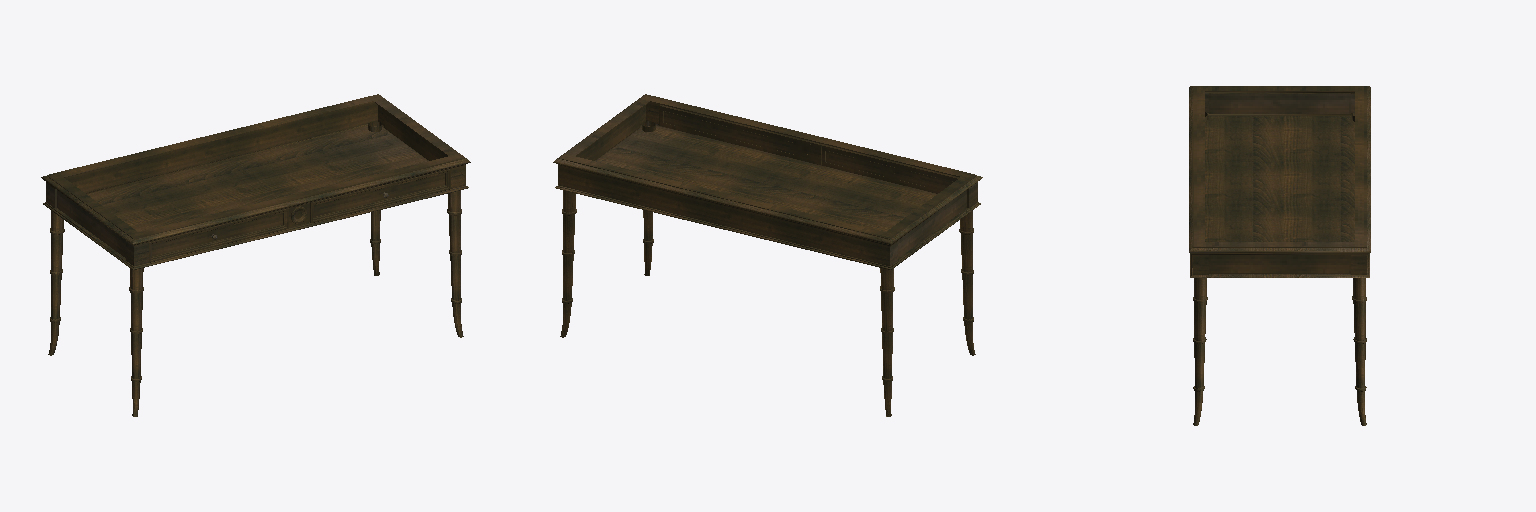
3 views of the same model, side by side, from view 1: azimuth 30°, elevation 25°; view 2: azimuth 150°, elevation 25°; view 3: azimuth 270°, elevation 25° (orthographic).
Parts seen in each view (by area): view 1: solid_002; view 2: solid_002; view 3: solid_002.
Boxes of the visible parts, box(x1,y1,x2,y2) form: solid_002: box(41, 94, 470, 416); solid_002: box(553, 94, 982, 416); solid_002: box(1189, 86, 1370, 425).
Bounding box in the file's own units: 1.99 × 1.01 × 0.929.
Materials: 1 (1 with a texture image).